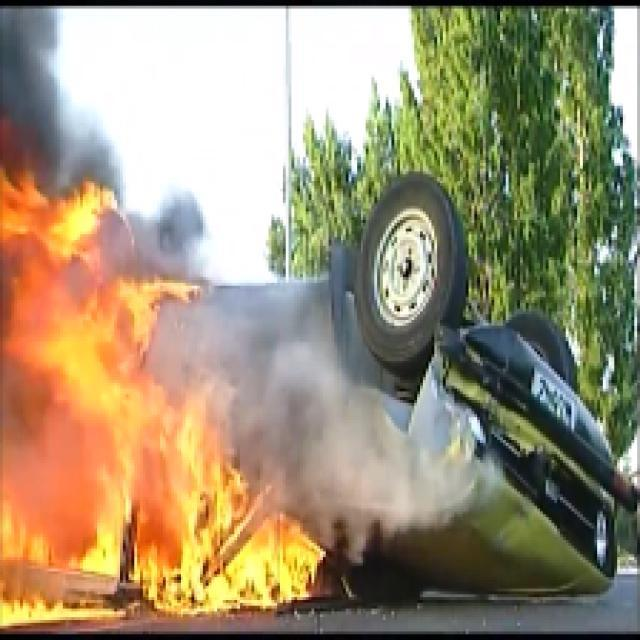Fire: (3, 163, 323, 623)
Smoke: (246, 283, 457, 523), (3, 14, 66, 154)
